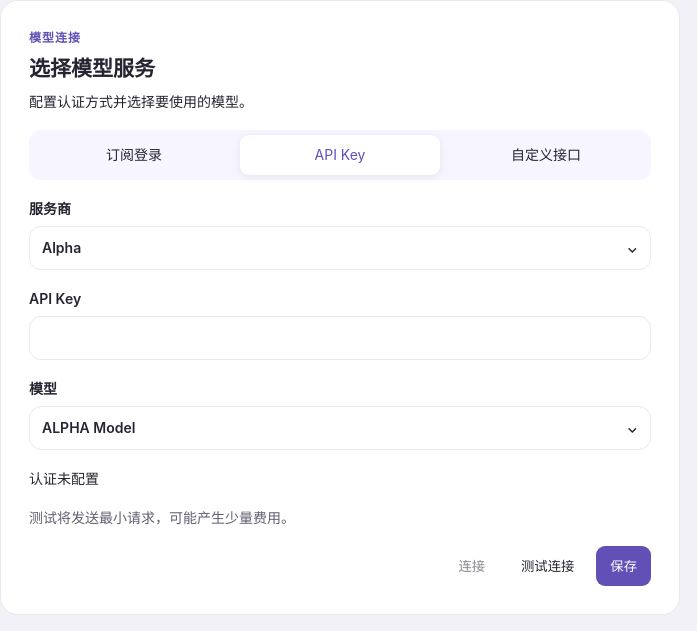
ModelSettingsPanel › clears an invalid model when the provider changes
Check: the dropdown named "模型" shows "ALPHA Model", box 29,406 -> 651,450
Click the dropdown named "服务商". click: [62, 248]
box: 29,226 -> 651,270
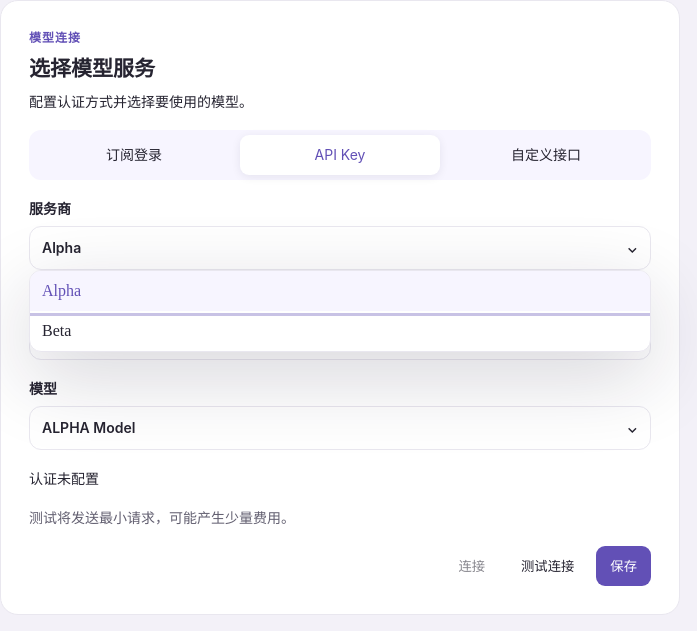
Click the option "Beta". click: [57, 330]
box: 42,322 -> 71,339
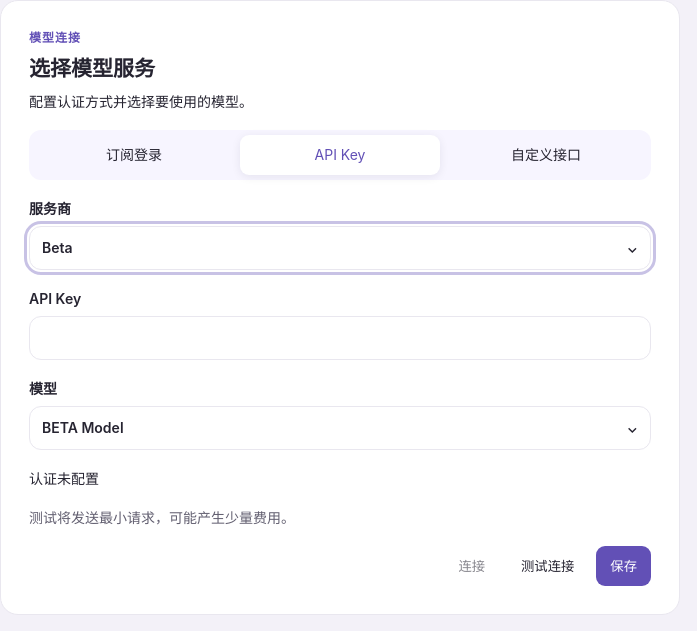
Check: the dropdown named "模型" shows "BETA Model", box 29,406 -> 651,450
Check: the dropdown named "模型" no longer shows "ALPHA Model", box 29,406 -> 651,450
